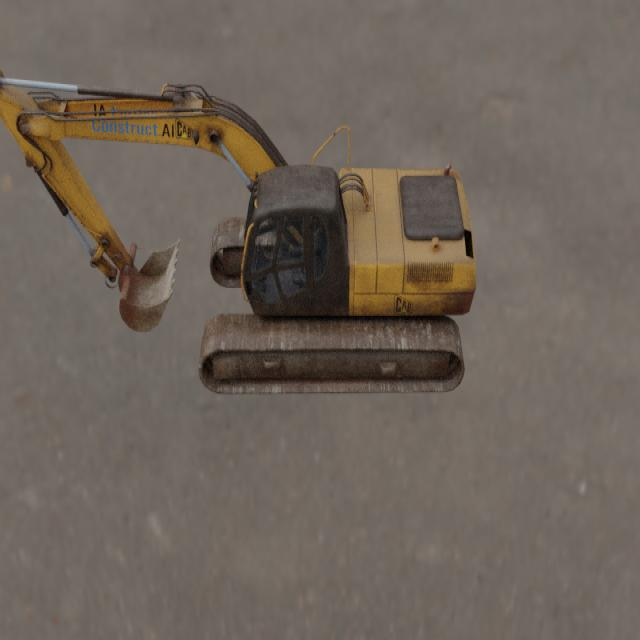excavator: (0, 68, 477, 395)
